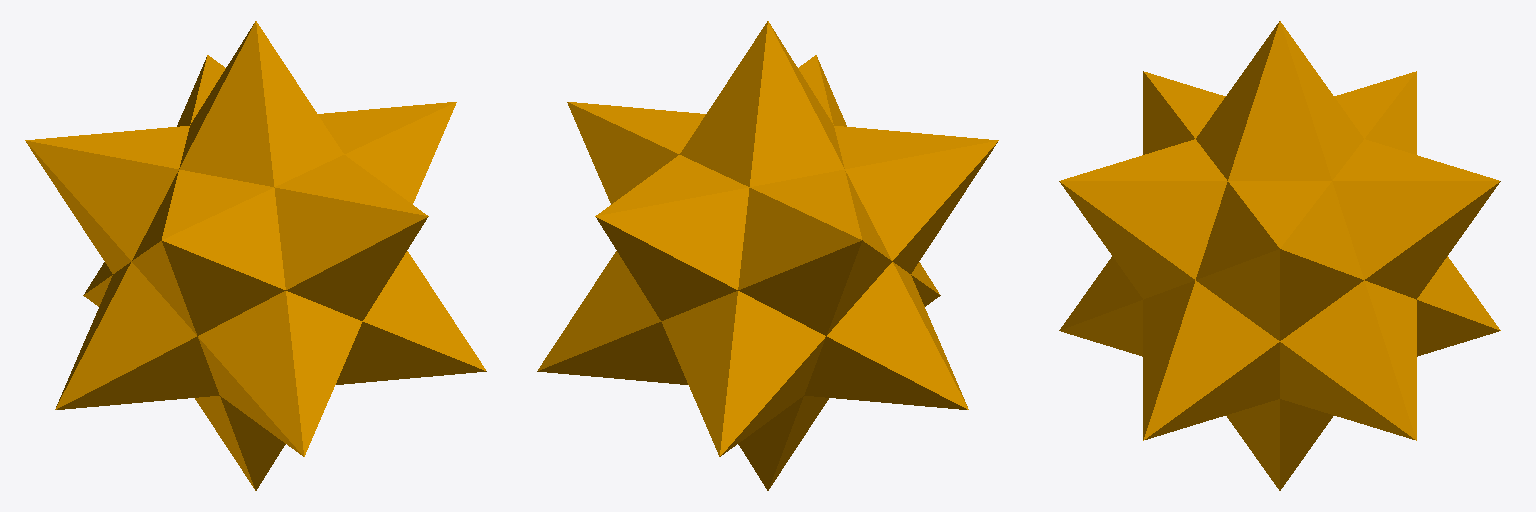
robot.urdf — object:
<?xml version="1.0"?>
<robot name="object">
  <link name="object">
    <visual>
      <origin xyz="0 0 0"/>
      <geometry>
        <mesh filename="stell_dodeca.obj" scale=".0015 .0015 .0015"/>
      </geometry>
    </visual>
    <collision>
      <origin xyz="0 0 0"/>
      <geometry>
        <mesh filename="stell_dodeca.obj" scale=".0015 .0015 .0015"/>
      </geometry>
    </collision>
    <inertial>
      <density value="567.0"/>
    </inertial>
  </link>
</robot>

--- What the picture shows (computed from the rendered views, not written in the file) ---
The picture shows the robot from 3 angles, left to right: view 1: azimuth 30°, elevation 25°; view 2: azimuth 150°, elevation 25°; view 3: azimuth 270°, elevation 25°; orthographic projection.
Model object with 1 links and 0 joints (none), rooted at object, posed every joint at zero.
Visible links, largest first — view 1: object; view 2: object; view 3: object.
Boxes of the visible links, x1=… form: object: x1=25, y1=21, x2=486, y2=490; object: x1=537, y1=21, x2=998, y2=490; object: x1=1059, y1=21, x2=1500, y2=490.
Size in the robot's own frame: 0.0671 by 0.0638 by 0.075 metres.
1 mesh visuals loaded from 1 distinct referenced files (1 OBJ).